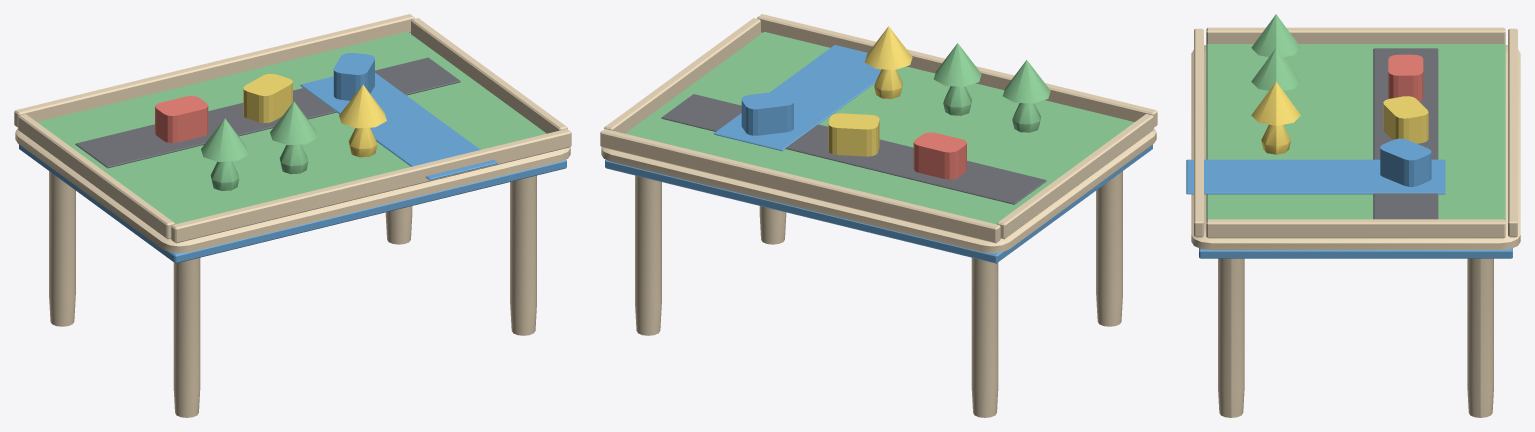
File: nursery-and-primary-classroom-small-world-table-8ba1ab02__35009.glb
The picture shows the model from 3 angles, left to right: view 1: azimuth 30°, elevation 25°; view 2: azimuth 150°, elevation 25°; view 3: azimuth 270°, elevation 25°; orthographic projection.
Visible parts, largest first — view 1: small-world-table; view 2: small-world-table; view 3: small-world-table.
Part boxes in pixels (bbox=[...]): small-world-table: bbox=[14, 14, 571, 417]; small-world-table: bbox=[600, 14, 1157, 417]; small-world-table: bbox=[1186, 14, 1520, 417].
Size of the model in its own units: 0.94 by 0.584 by 0.67.
